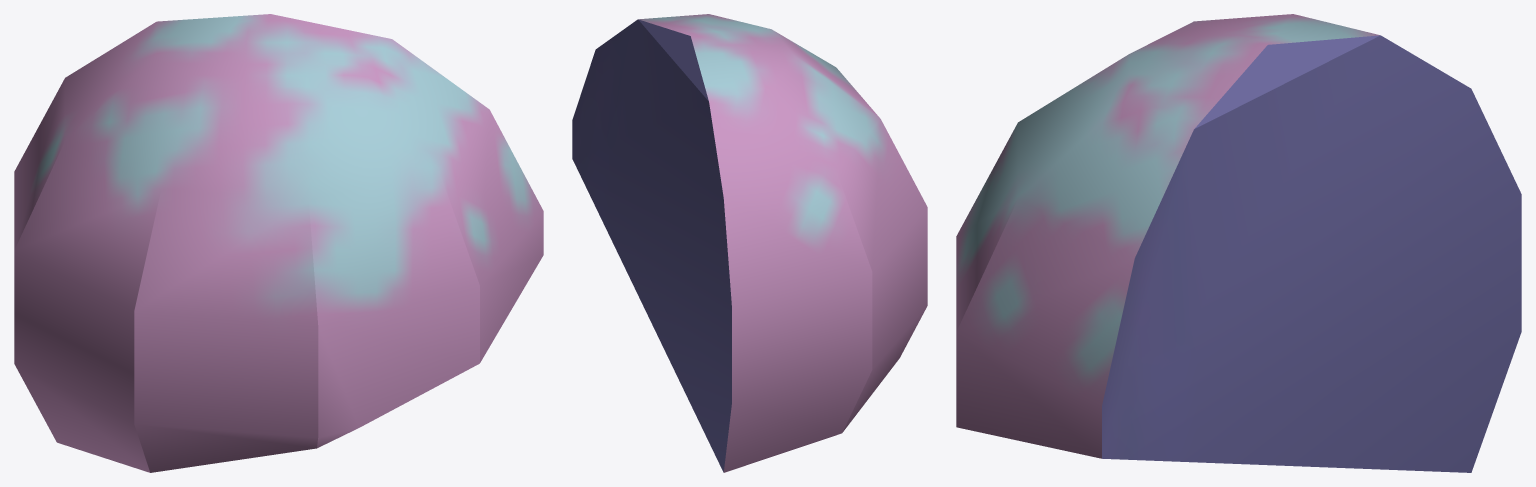
Rendered from augurball 2.fbx.
3 renders of one model, left to right at view 1: azimuth 30°, elevation 25°; view 2: azimuth 150°, elevation 25°; view 3: azimuth 270°, elevation 25°, orthographic. The views are drawn at different scales.
Parts seen in each view (by area): view 1: augur ball2; view 2: augur ball2; view 3: augur ball2.
Boxes of the visible parts, x1,y1,x2,y2 form: augur ball2: [14, 14, 543, 472]; augur ball2: [572, 14, 927, 472]; augur ball2: [956, 14, 1521, 472].
Bounding box in the file's own units: 58.58 × 52.7 × 53.99.
